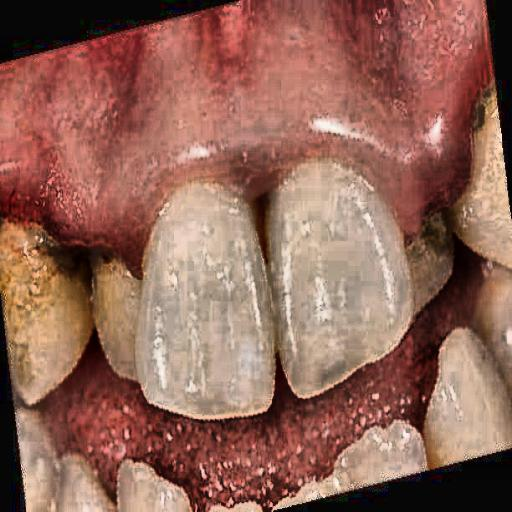Gingivitis: (27, 61, 457, 223)
